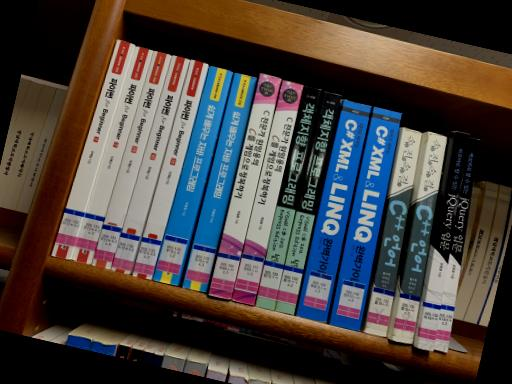book-spine: (51, 39, 134, 260), (152, 65, 232, 286), (71, 47, 152, 264), (90, 50, 170, 269), (111, 55, 189, 275), (295, 100, 371, 322), (206, 73, 280, 300), (181, 72, 257, 293), (131, 59, 206, 280), (328, 106, 401, 331), (231, 80, 302, 305), (255, 86, 321, 310), (275, 91, 340, 314), (365, 127, 421, 337), (392, 132, 447, 344), (418, 132, 469, 351), (434, 137, 479, 352)
